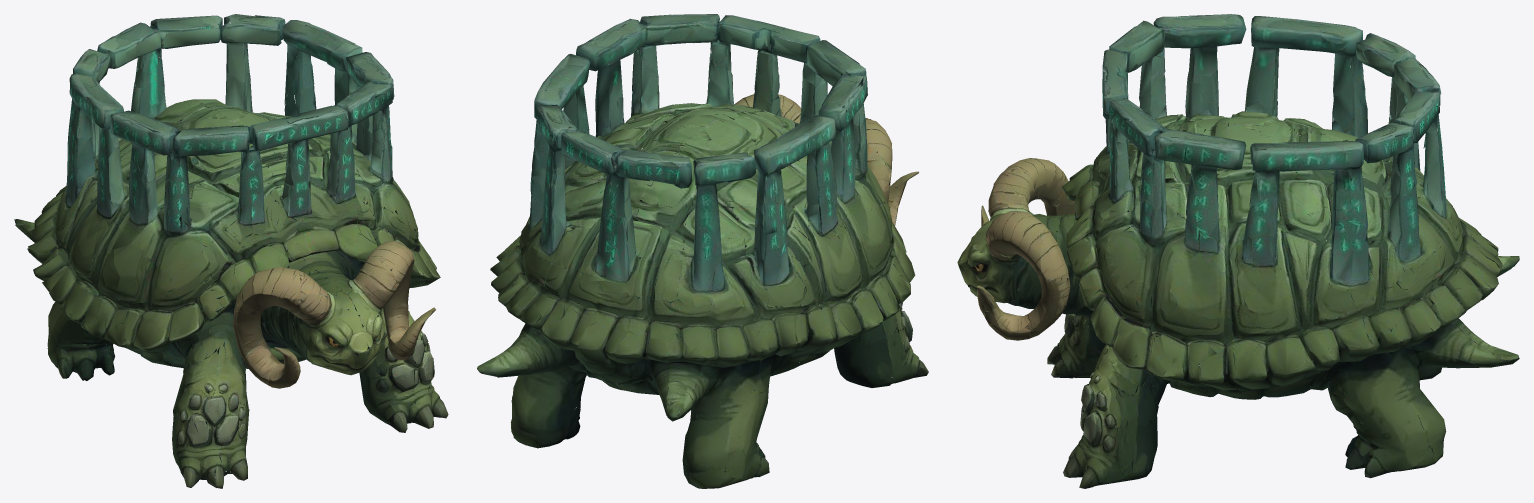
The picture shows the model from 3 angles, left to right: view 1: azimuth 30°, elevation 25°; view 2: azimuth 150°, elevation 25°; view 3: azimuth 270°, elevation 25°; orthographic projection. The views are drawn at different scales.
Visible parts, largest first — view 1: Mesh_0; view 2: Mesh_0; view 3: Mesh_0.
Boxes of the visible parts, <box> form: Mesh_0: <box>14,14,448,488</box>; Mesh_0: <box>477,14,928,488</box>; Mesh_0: <box>957,14,1519,488</box>.
Size of the model in its own units: 1.42 by 1.3 by 1.9.
1 material, 1 textured.
